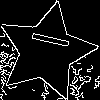I: (21, 26, 71, 51)
